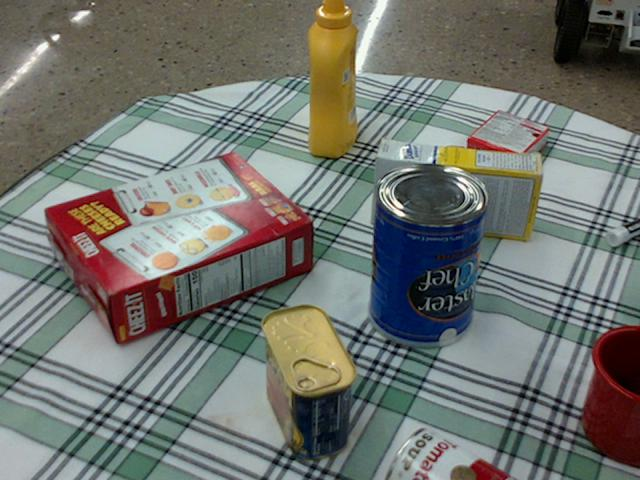cracker_box: (44, 153, 309, 343)
gelatin_box: (464, 110, 548, 174)
large_marker: (605, 217, 639, 245)
master_chef_can: (368, 162, 490, 346)
mug: (580, 325, 639, 465)
mustard_bottle: (307, 0, 357, 156)
potted_meat_can: (261, 304, 357, 458)
sugar_box: (370, 140, 542, 240)
tomato_soup_can: (386, 428, 515, 479)
